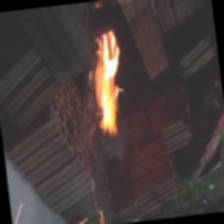fire: (75, 16, 139, 146)
